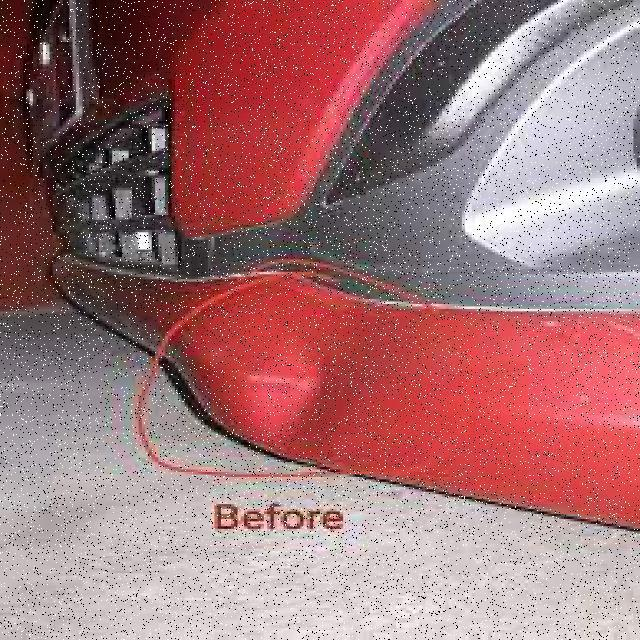hood: (10, 215, 637, 529)
